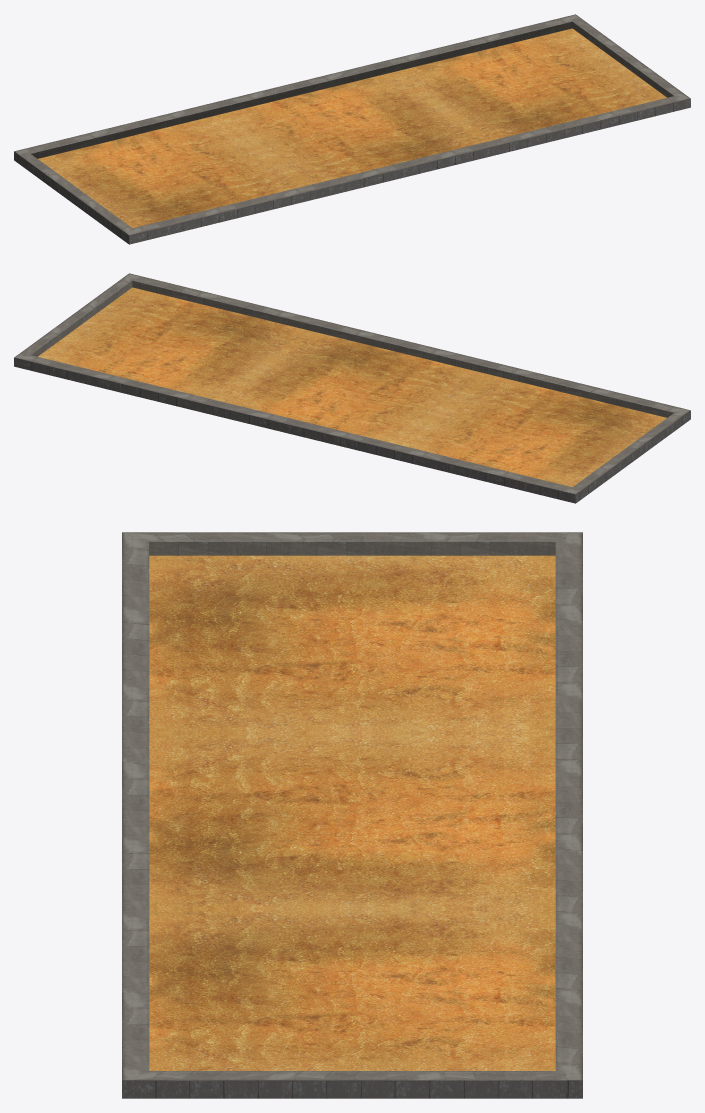
The model's file is gereen_beltsambase_sand.FBX.
3 renders of one model, top to bottom at view 1: azimuth 30°, elevation 25°; view 2: azimuth 150°, elevation 25°; view 3: azimuth 270°, elevation 25°, orthographic. The views are drawn at different scales.
Visible parts, largest first — view 1: gereen_beltsambaseSand; view 2: gereen_beltsambaseSand; view 3: gereen_beltsambaseSand.
Boxes of the visible parts, <box> form: gereen_beltsambaseSand: <box>14,14,690,244</box>; gereen_beltsambaseSand: <box>14,273,690,503</box>; gereen_beltsambaseSand: <box>122,532,582,1098</box>.
Size of the model in its own units: 19664 by 300 by 6986.
